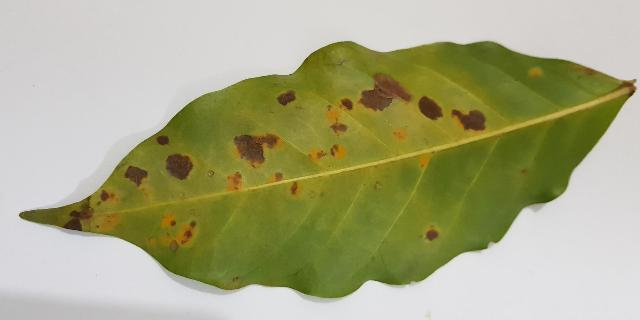miner: (326, 74, 444, 135), (62, 196, 122, 231), (232, 133, 285, 168), (450, 108, 486, 135), (161, 222, 196, 249), (125, 166, 151, 198), (166, 153, 194, 180), (308, 144, 346, 162), (99, 189, 121, 205), (226, 172, 242, 192), (278, 92, 295, 105), (161, 213, 176, 227), (392, 128, 408, 141), (578, 65, 600, 74), (290, 181, 302, 196), (425, 227, 438, 240), (418, 154, 430, 167), (268, 173, 283, 183), (157, 136, 168, 145), (306, 192, 318, 200), (372, 182, 381, 191), (530, 70, 540, 76), (209, 170, 214, 177), (149, 239, 155, 244), (58, 208, 59, 208), (61, 207, 61, 207), (618, 79, 618, 80)
